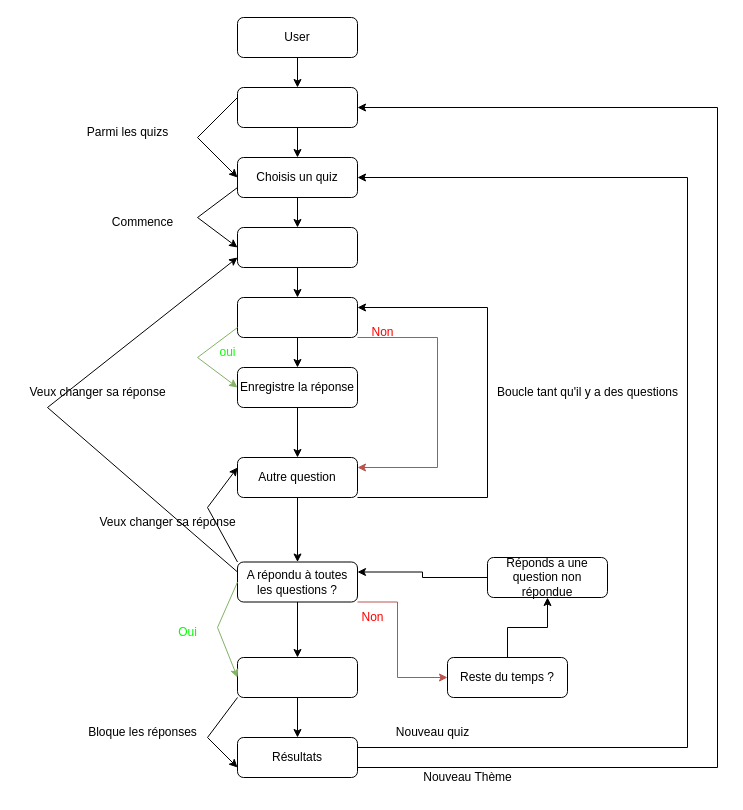
Image size: 743x810. Some labels were removed from this diagram. The centre of each missing label's shape, as x and y in pixels:
"Choisis son thème" belongs at (297,107).
"Fin du quiz" belongs at (297,677).
"Première question" belongs at (297,247).
"Réponds ?" belongs at (297,317).
